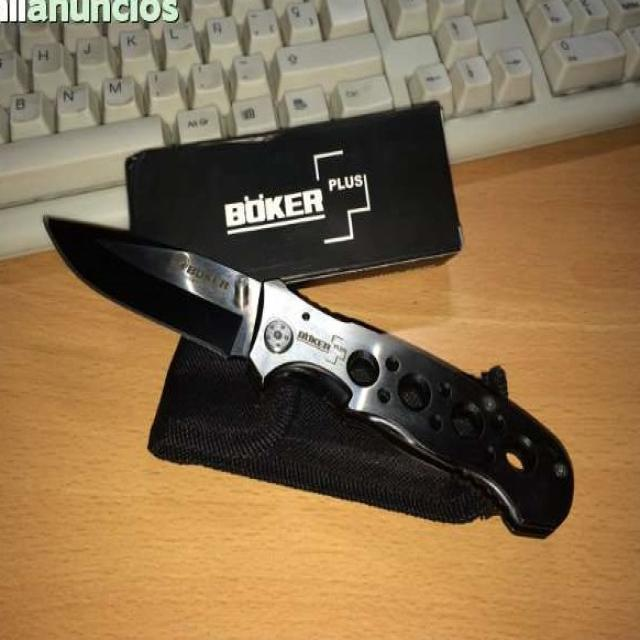knife: (35, 204, 577, 551)
